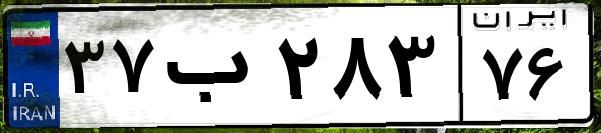2: (270, 28, 330, 110)
3: (385, 28, 445, 110), (57, 26, 110, 100)
6: (525, 38, 570, 115)
7: (475, 38, 525, 113), (110, 28, 158, 98)
8: (330, 28, 385, 110)
ب: (158, 20, 270, 120)
